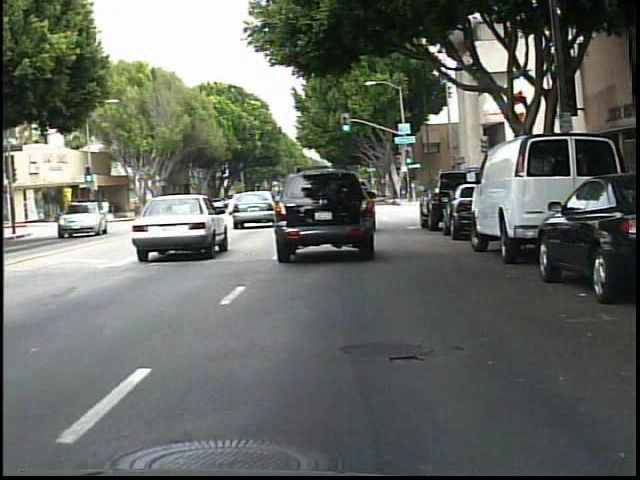person: (97, 194, 116, 225)
